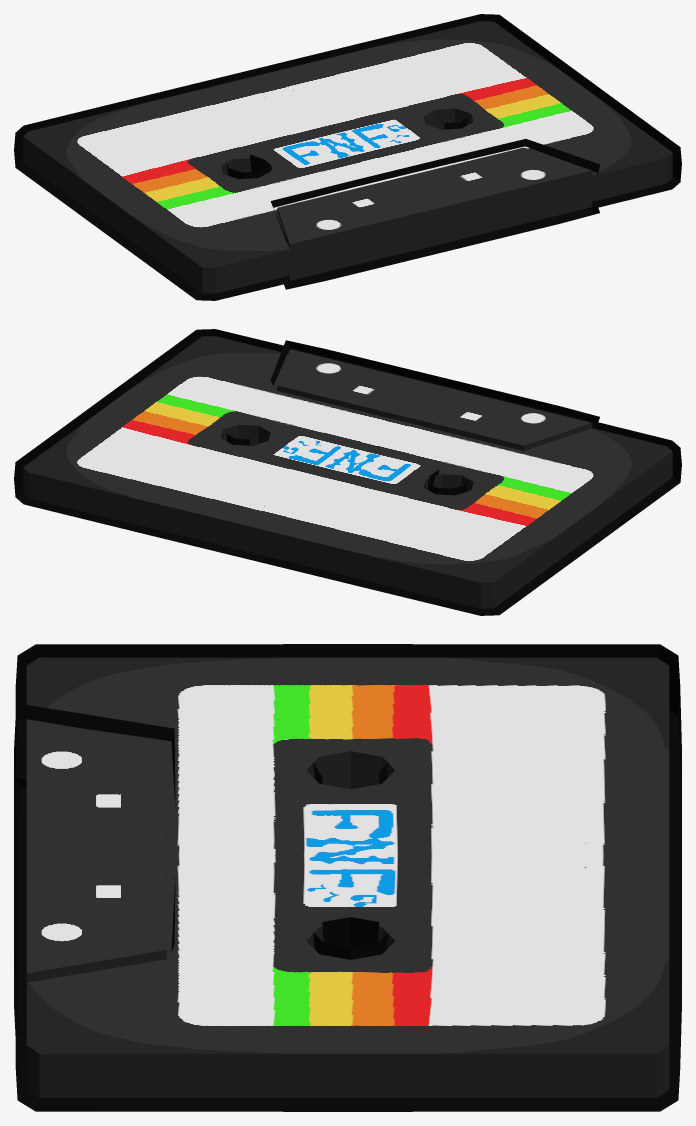
Rendered from Casset.fbx.
3 renders of one model, top to bottom at view 1: azimuth 30°, elevation 25°; view 2: azimuth 150°, elevation 25°; view 3: azimuth 270°, elevation 25°, orthographic. The views are drawn at different scales.
Parts seen in each view (by area): view 1: Cube.001; view 2: Cube.001; view 3: Cube.001.
Boxes of the visible parts, bbox=[...] form: Cube.001: bbox=[14, 14, 681, 300]; Cube.001: bbox=[14, 329, 681, 615]; Cube.001: bbox=[14, 644, 681, 1111].
Bounding box in the file's own units: 207 × 19.92 × 143.
Materials: 1 (1 with a texture image).
